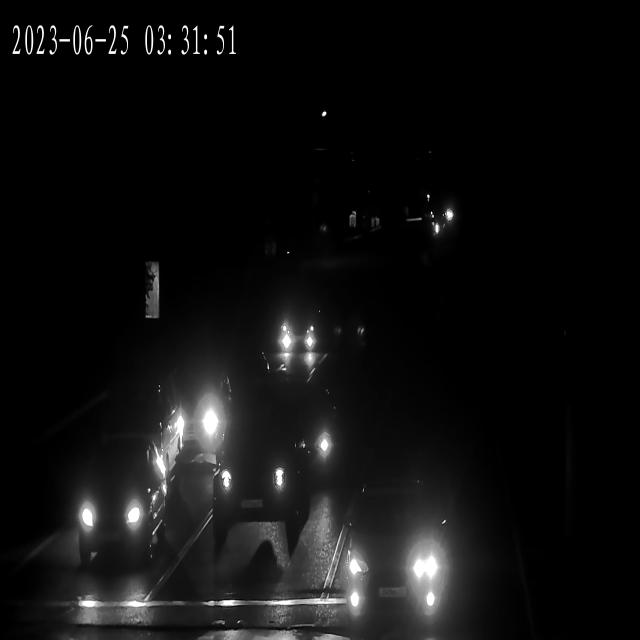Car: (338, 485, 451, 615), (60, 451, 158, 570), (214, 416, 306, 522), (282, 366, 352, 480), (152, 364, 236, 453), (275, 310, 322, 360)
